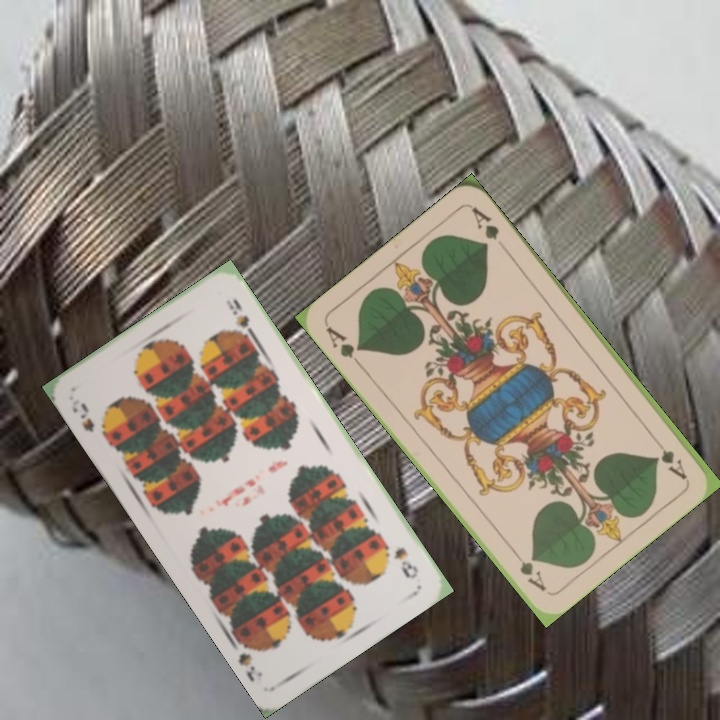GA: (321, 322, 365, 371), (657, 446, 690, 483)
S9: (76, 398, 112, 443), (389, 543, 421, 582)
